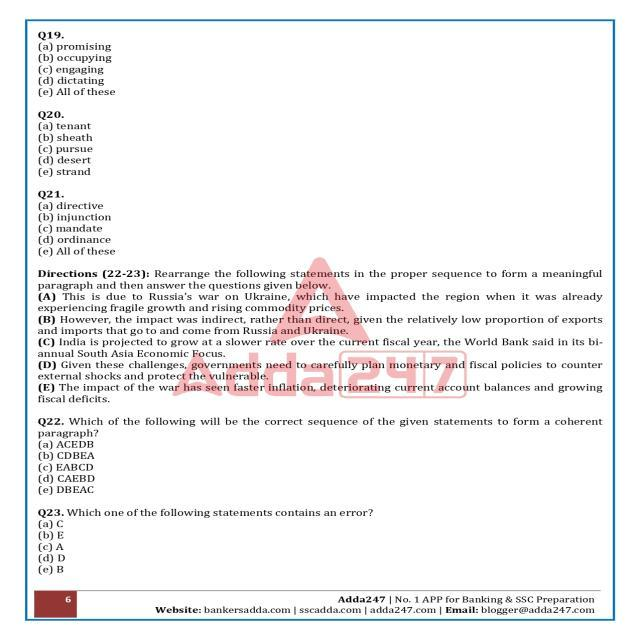Answer_Block: (26, 438, 615, 501), (26, 520, 615, 579)
Description: (26, 180, 615, 264), (26, 21, 615, 100), (26, 101, 615, 179)
Instruction: (32, 264, 608, 406)
Question_Answer_Block: (26, 408, 615, 502), (26, 180, 615, 264), (26, 21, 615, 100), (26, 101, 615, 179), (26, 504, 615, 579)
Question_Block: (26, 408, 615, 441), (26, 503, 615, 518)
Question_Paper_Area: (26, 21, 615, 619)
